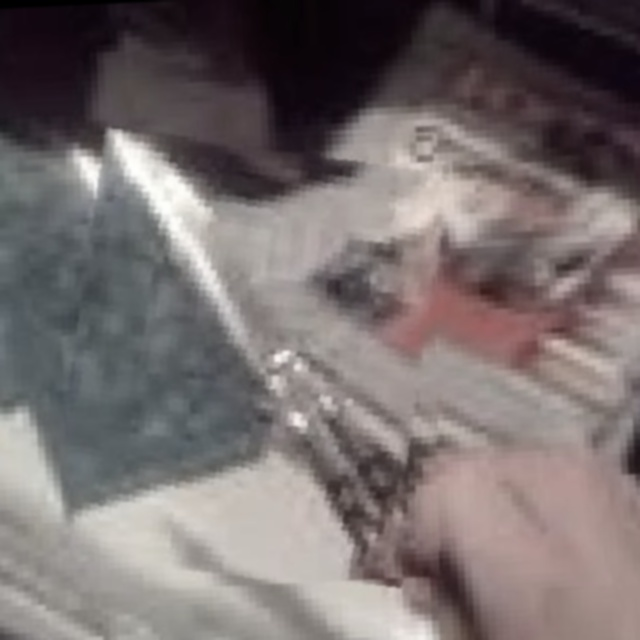Sharp-Object: (53, 124, 453, 593)
